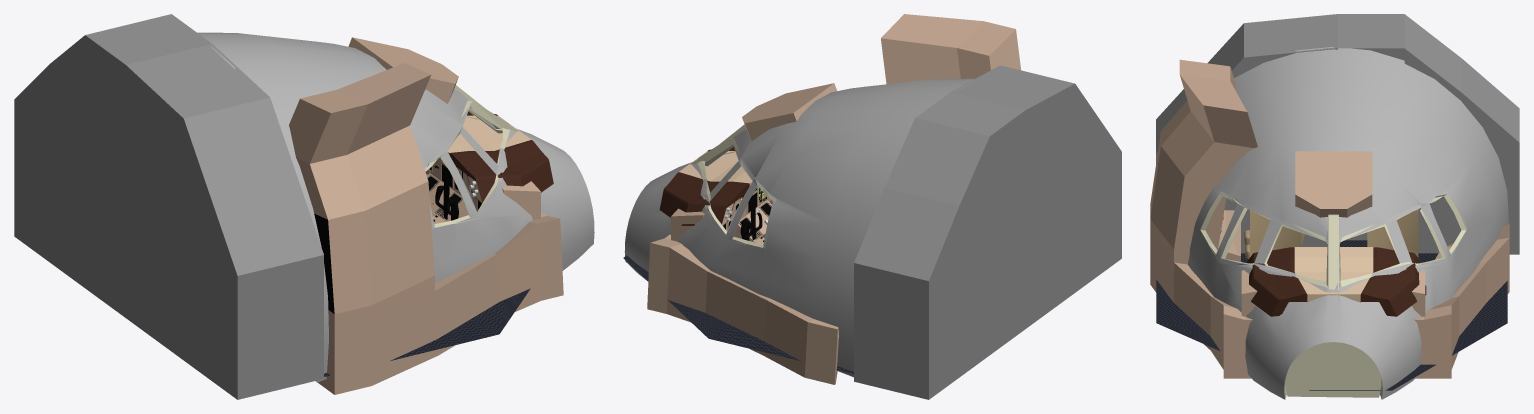
Rendered from cockpit.glb.
The picture shows the model from 3 angles, left to right: view 1: azimuth 30°, elevation 25°; view 2: azimuth 150°, elevation 25°; view 3: azimuth 270°, elevation 25°; orthographic projection. The views are drawn at different scales.
Visible parts, largest first — view 1: Cube.016, Cube.005, Cylinder, Cylinder.004, Cube.003, preview_moqueta_2x2, Cube.002; view 2: Cube.016, Cylinder, Cube.005, Cylinder.004, Cube.003, preview_moqueta_2x2, Cube.002; view 3: Cylinder, Cube.005, Cube.016, Cylinder.004, Cube.003, preview_moqueta_2x2, Cube.009, Cube.010, Cube.002.
Part boxes in pixels (x1,y1,x2,y2): Cube.016: [14, 14, 323, 399]; Cube.005: [289, 63, 563, 394]; Cylinder: [197, 32, 594, 382]; Cylinder.004: [440, 111, 553, 203]; Cube.003: [348, 37, 458, 103]; preview_moqueta_2x2: [324, 288, 530, 376]; Cube.002: [425, 158, 540, 219]; Cube.016: [854, 65, 1121, 399]; Cylinder: [624, 78, 976, 377]; Cube.005: [647, 14, 1020, 384]; Cylinder.004: [659, 147, 758, 225]; Cube.003: [742, 83, 836, 140]; preview_moqueta_2x2: [623, 255, 853, 373]; Cube.002: [671, 187, 772, 241]; Cylinder: [1187, 46, 1508, 399]; Cube.005: [1150, 59, 1509, 378]; Cube.016: [1156, 14, 1519, 254]; Cylinder.004: [1246, 247, 1426, 316]; Cube.003: [1295, 151, 1372, 217]; preview_moqueta_2x2: [1156, 240, 1507, 390]; Cube.009: [1367, 209, 1418, 257]; Cube.010: [1250, 210, 1301, 256]; Cube.002: [1241, 270, 1425, 316].
Size of the model in its own units: 5.51 by 3.27 by 4.97.
Materials: 102 (1 with a texture image).
